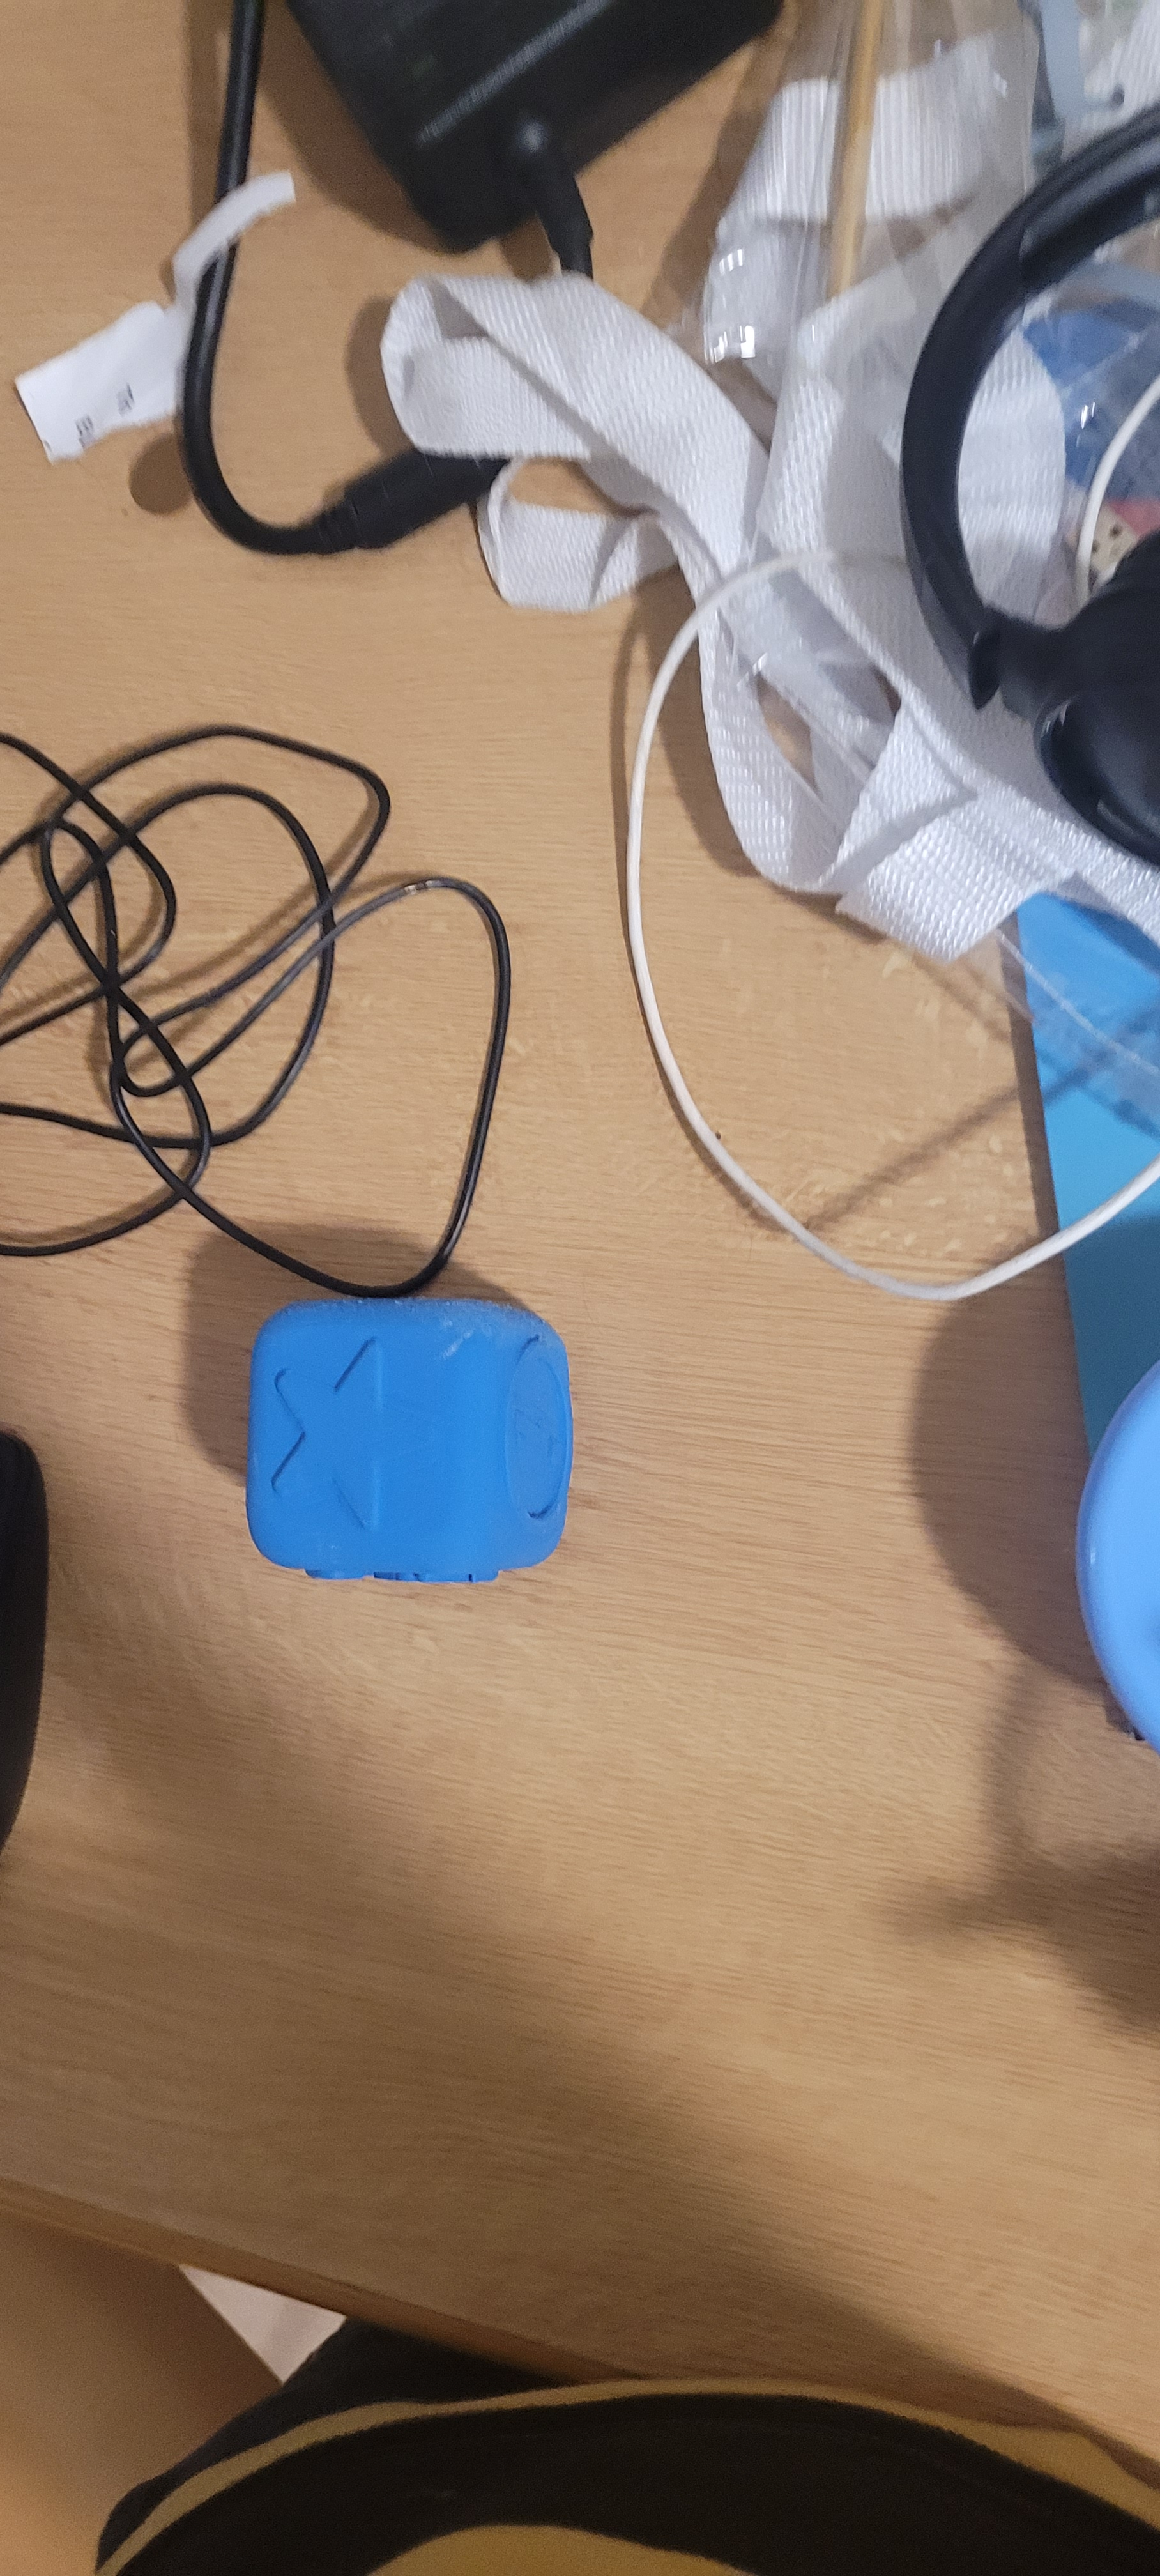Star: (261, 1308, 483, 1580)
